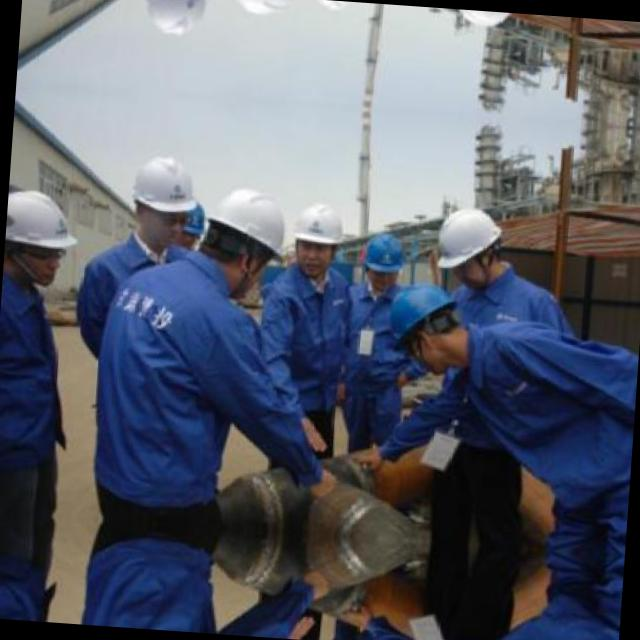helmet: (198, 175, 284, 287), (125, 141, 202, 252), (381, 280, 471, 369), (4, 182, 82, 284), (436, 204, 513, 294), (289, 194, 348, 276), (138, 0, 214, 50), (358, 230, 405, 292), (215, 0, 297, 27), (454, 8, 528, 30), (305, 0, 362, 19)
